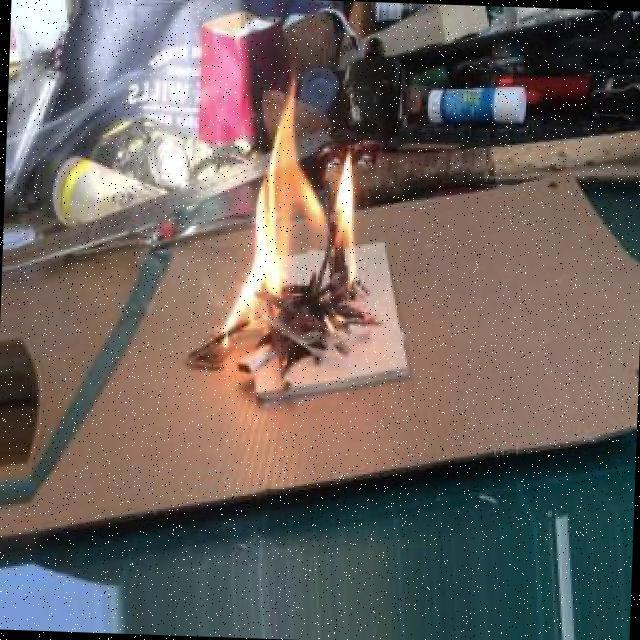Fire: (217, 79, 369, 360)
